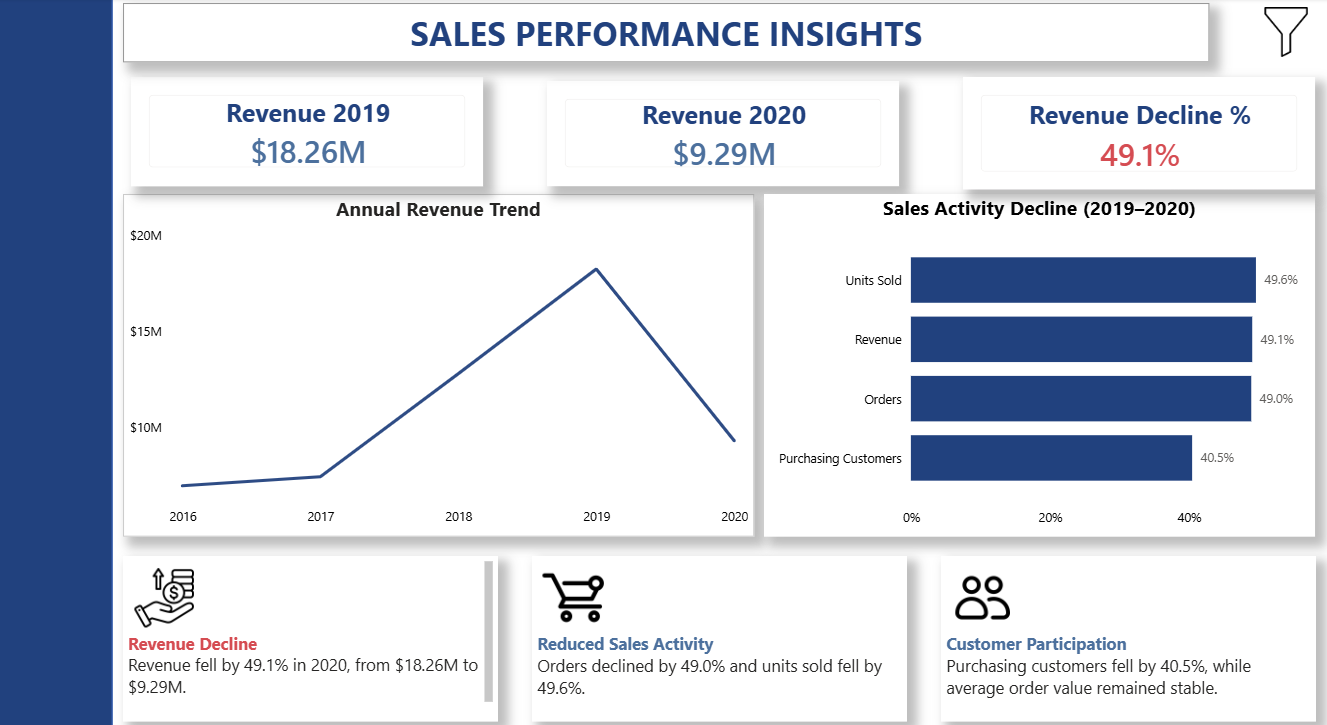

The dashboard page shown, as its layout file describes it:
{"tool":"powerbi","page":{"name":"Sales Performance","canvas":[1280,720],"ordinal":10},"visuals":[{"type":"lineChart","title":"Annual Revenue Trend ","fields":{"Category":["Date.Year"],"Y":["Sales.Revenue"]},"box":[119.8,188.2,605.8,328.6],"z":1000},{"type":"cardVisual","fields":{"Data":["Sales.Revenue 2019"]},"box":[127.5,75.7,338,104.5],"z":2000},{"type":"cardVisual","fields":{"Data":["Sales.Revenue 2020"]},"box":[526.9,79.6,338,100.7],"z":3000},{"type":"textbox","box":[119.8,4.9,1043.3,57],"z":5000},{"type":"clusteredBarChart","title":"Sales Activity Decline (2019–2020)","fields":{"Category":["Sales Activity Metrics.Metric"],"Y":["Sales.Sales Activity Decline %"]},"box":[735.4,187.9,529.3,328.9],"z":6000},{"type":"cardVisual","fields":{"Data":["Sales.Revenue Decline %"]},"box":[926.2,75.7,338.5,108.3],"z":7000},{"type":"textbox","box":[119.9,536,360,159.2],"z":8000},{"type":"textbox","box":[512.5,536,360,159.2],"z":9000},{"type":"textbox","box":[905.1,536,360,159.2],"z":10000},{"type":"image","box":[119.9,546.5,79.6,59],"z":11000},{"type":"image","box":[513,546.5,79.6,59],"z":12000},{"type":"image","box":[905.1,546.5,79.6,59.4],"z":13000},{"type":"image","box":[1210,9,54,48],"z":16000},{"type":"shape","box":[0,0,110,720.1],"z":16001}]}

Visuals, with their boxes in screenshot pixels (x1, y1, x2, y2), scaled from the page's 1280x720 canvas onto the 1327x725 screenshot:
"Annual Revenue Trend " lineChart: left=124, top=190, right=752, bottom=520
cardVisual - Sales.Revenue 2019: left=132, top=76, right=483, bottom=181
cardVisual - Sales.Revenue 2020: left=546, top=80, right=897, bottom=182
textbox: left=124, top=5, right=1206, bottom=62
"Sales Activity Decline (2019–2020)" clusteredBarChart: left=762, top=189, right=1311, bottom=520
cardVisual - Sales.Revenue Decline %: left=960, top=76, right=1311, bottom=185
textbox: left=124, top=540, right=498, bottom=700
textbox: left=531, top=540, right=905, bottom=700
textbox: left=938, top=540, right=1312, bottom=700
image: left=124, top=550, right=207, bottom=610
image: left=532, top=550, right=614, bottom=610
image: left=938, top=550, right=1021, bottom=610
image: left=1254, top=9, right=1310, bottom=57
shape: left=0, top=0, right=114, bottom=724
